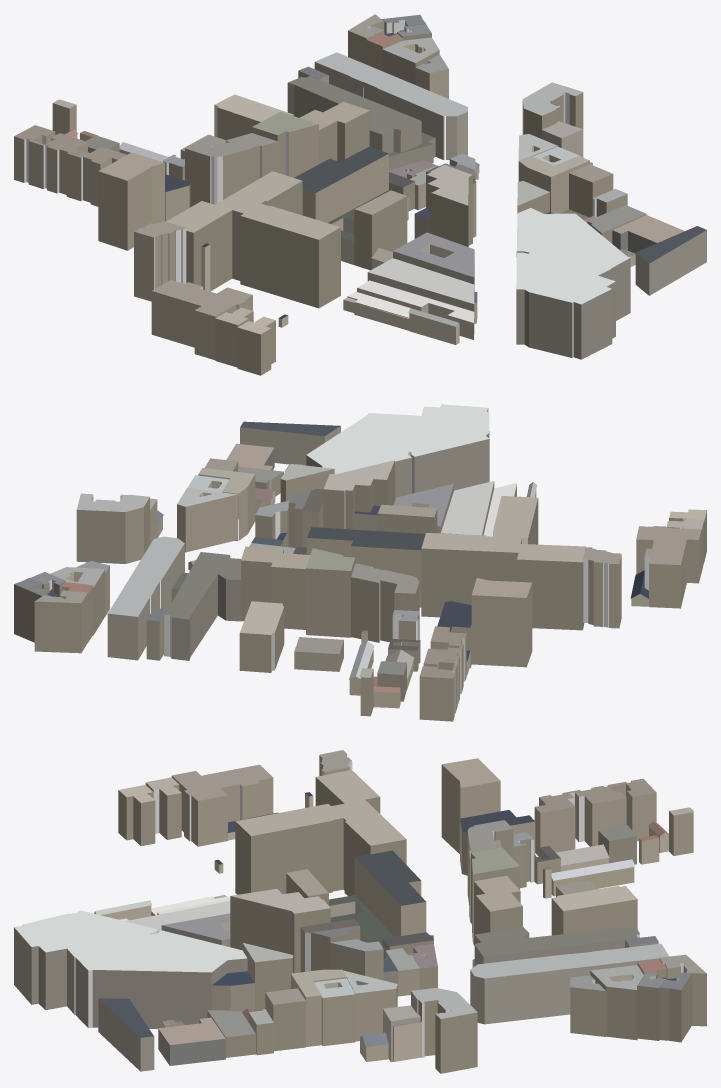
3 renders of one model, top to bottom at view 1: azimuth 30°, elevation 25°; view 2: azimuth 150°, elevation 25°; view 3: azimuth 270°, elevation 25°, orthographic. The views are drawn at different scales.
Visible parts, largest first — view 1: tuile; view 2: tuile; view 3: tuile.
Part boxes in pixels (left/top/right/bottom): tuile: left=14, top=14, right=706, bottom=375; tuile: left=14, top=404, right=706, bottom=721; tuile: left=14, top=750, right=706, bottom=1073.
Size of the model in its own units: 275 by 45.42 by 304.
